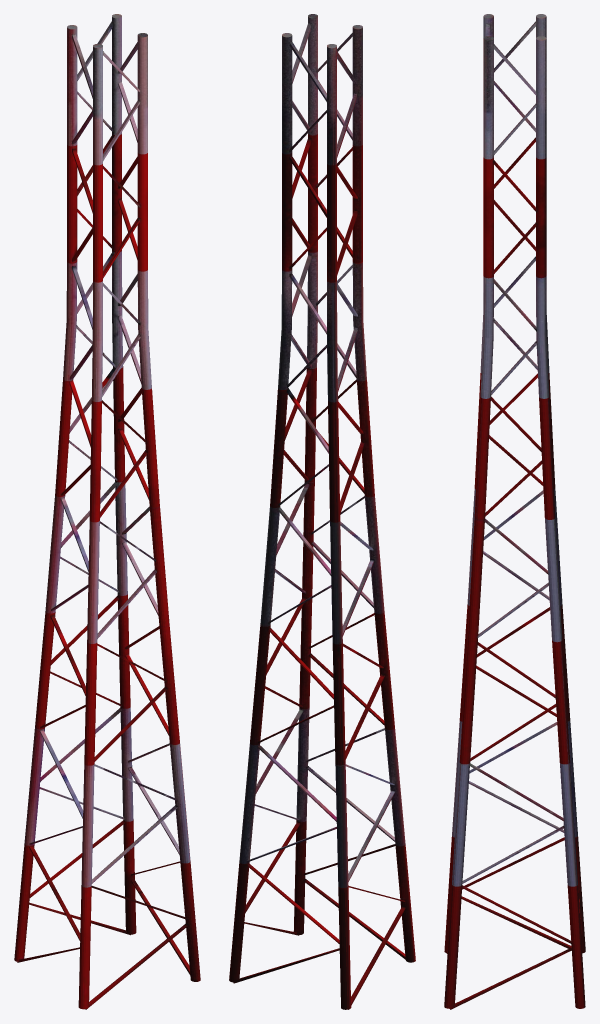
File: celle_tower.glb
3 renders of one model, left to right at view 1: azimuth 30°, elevation 25°; view 2: azimuth 150°, elevation 25°; view 3: azimuth 270°, elevation 25°, orthographic.
Parts seen in each view (by area): view 1: celle_tower; view 2: celle_tower; view 3: celle_tower.
Boxes of the visible parts, x1,y1,x2,y2 form: celle_tower: (14, 14, 200, 1009); celle_tower: (229, 14, 415, 1009); celle_tower: (444, 14, 585, 1009).
Size of the model in its own units: 2.85 by 21.17 by 2.85.
Materials: 1 (1 with a texture image).
